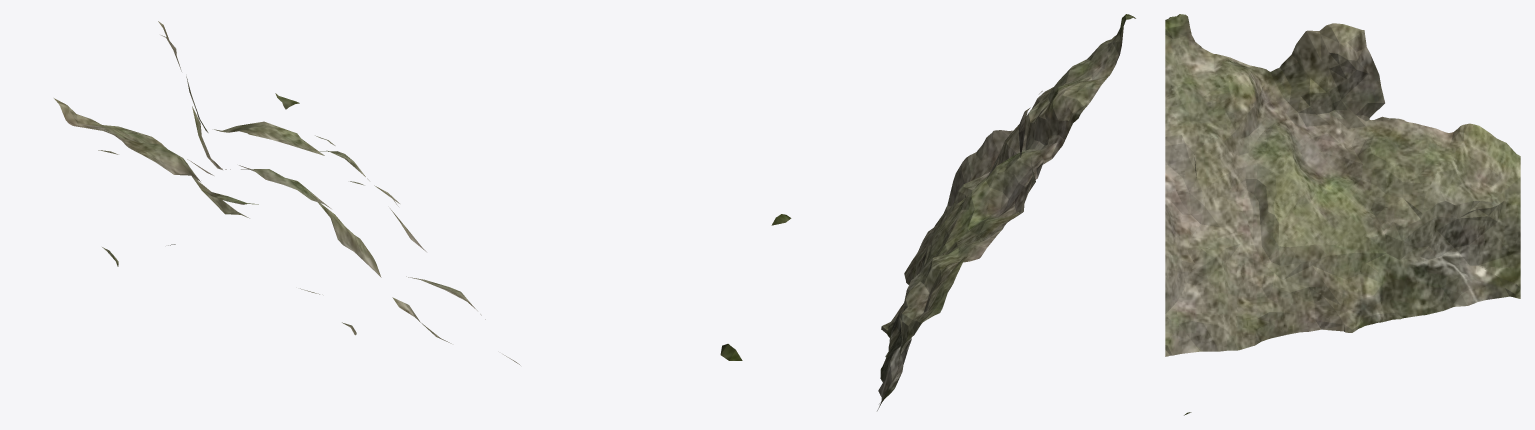
The picture shows the model from 3 angles, left to right: view 1: azimuth 30°, elevation 25°; view 2: azimuth 150°, elevation 25°; view 3: azimuth 270°, elevation 25°; orthographic projection. The views are drawn at different scales.
Bounding box in the file's own units: 2.95 × 2.31 × 2.95.
Materials: 2 (2 with a texture image).
